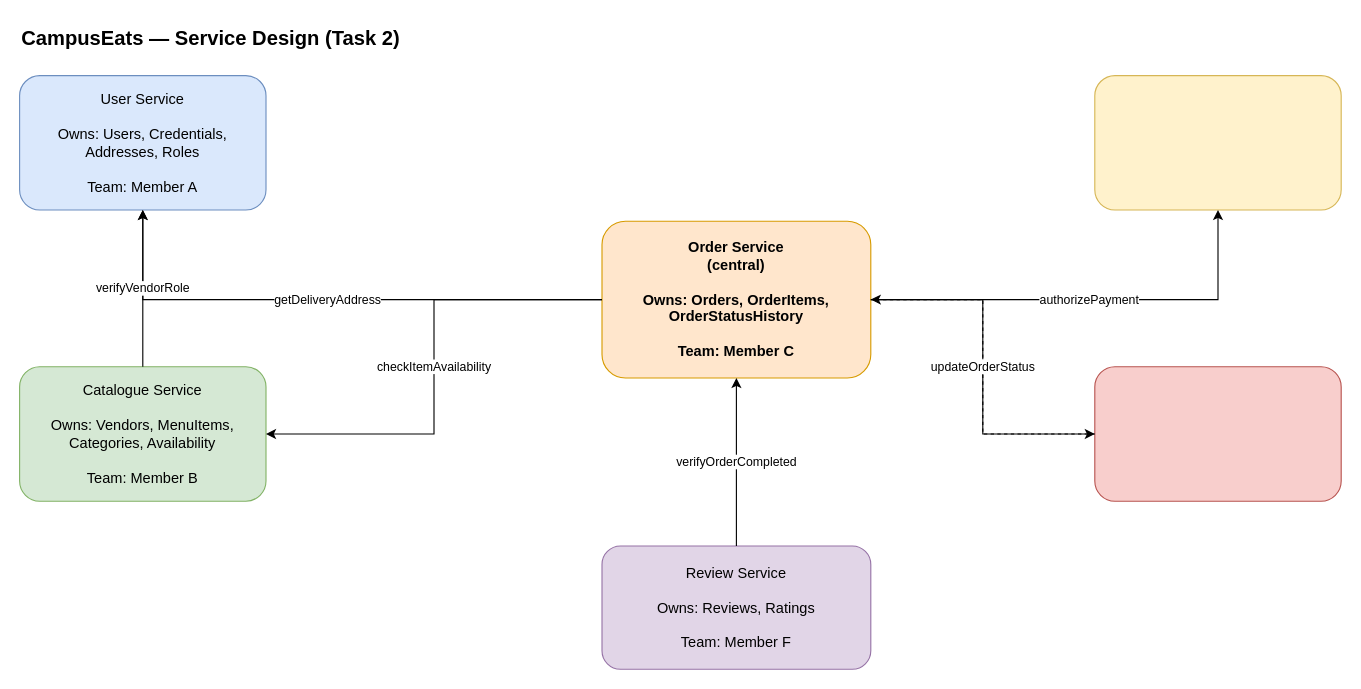
Some shapes in this 1361 by 689 pixel diagram are drawn without their labels. Each missing label, with the centre of its shape:
"Delivery Service Owns: Deliveries, DeliveryAgents, Assignments Team: Member E" belongs at pixel 1217 433.
"Payment Service Owns: Payments, Transactions, Refunds Team: Member D" belongs at pixel 1217 142.
